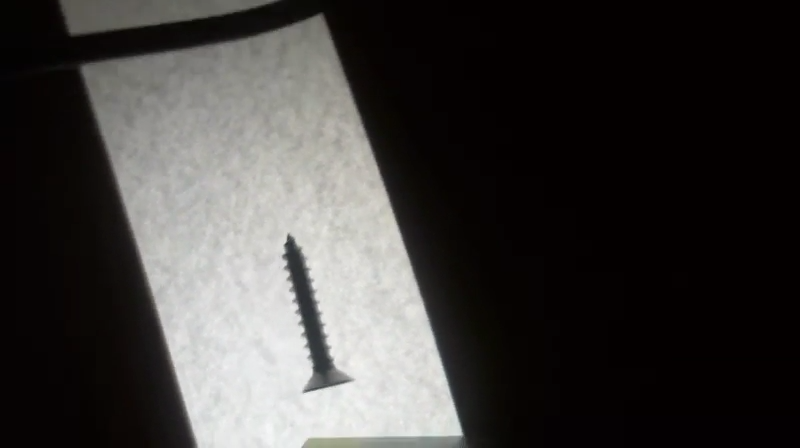S001: (277, 230, 357, 398)
